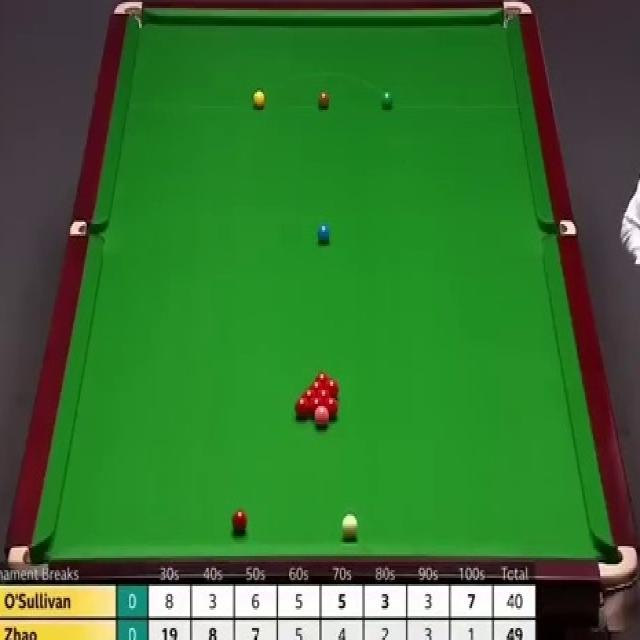pocket: (597, 542, 635, 580), (498, 0, 532, 29), (112, 0, 144, 29), (8, 546, 48, 566), (537, 222, 580, 238), (70, 218, 102, 236)
